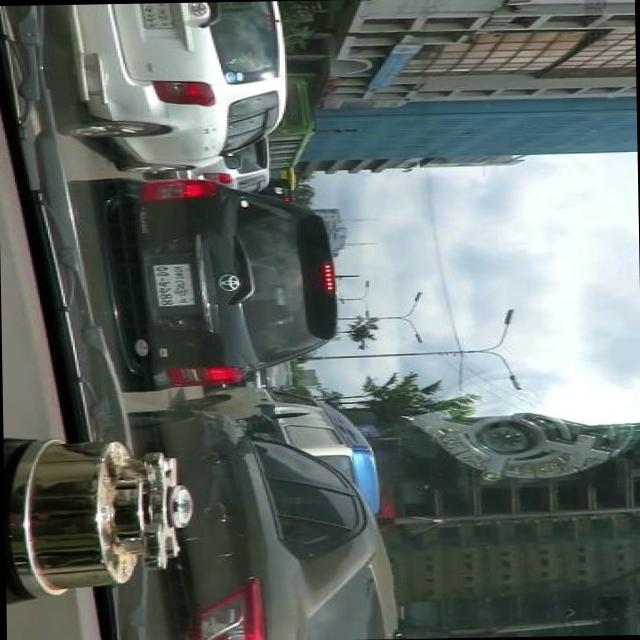bus: (264, 77, 314, 172)
car: (117, 399, 403, 640), (63, 170, 345, 394), (41, 1, 298, 176), (142, 134, 278, 197)
truck: (176, 370, 382, 512)
